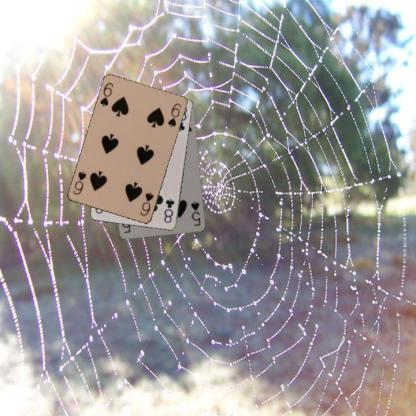5s: (189, 199, 202, 227)
6s: (137, 190, 155, 217), (97, 80, 114, 108)
8c: (162, 196, 176, 224)
